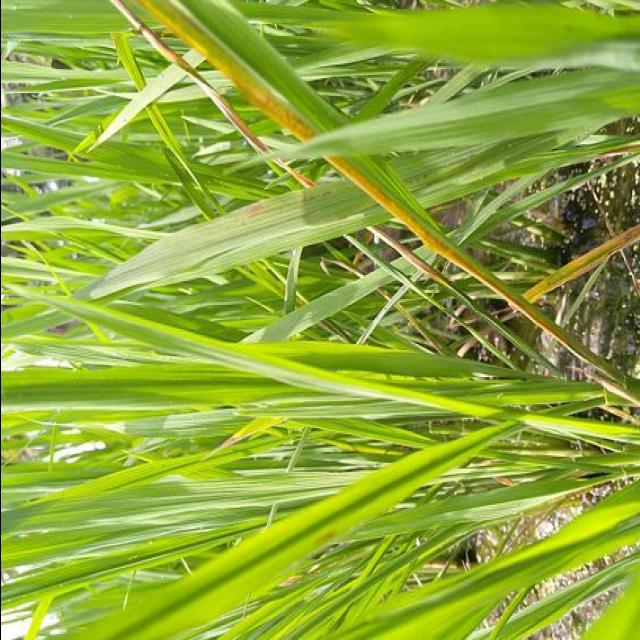Leaf Blight: (328, 158, 610, 371), (108, 0, 272, 155), (145, 0, 317, 143), (371, 227, 446, 284), (276, 159, 315, 186)
